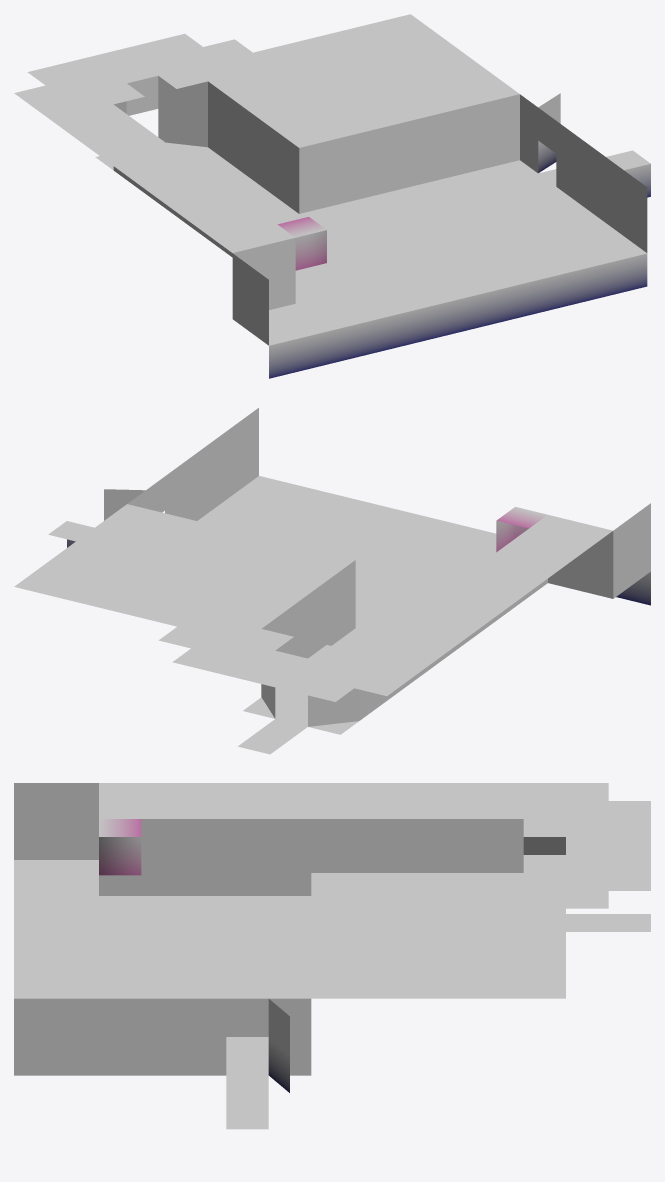
The model's file is oddcare1.obj.
3 renders of one model, top to bottom at view 1: azimuth 30°, elevation 25°; view 2: azimuth 150°, elevation 25°; view 3: azimuth 270°, elevation 25°, orthographic. The views are drawn at different scales.
Visible parts, largest first — view 1: Scene; view 2: Scene; view 3: Scene.
Boxes of the visible parts, left/top/right/bottom form: Scene: left=14, top=14, right=650, bottom=378; Scene: left=14, top=408, right=650, bottom=754; Scene: left=14, top=783, right=650, bottom=1129.
Size of the model in its own units: 15 by 3 by 15.
